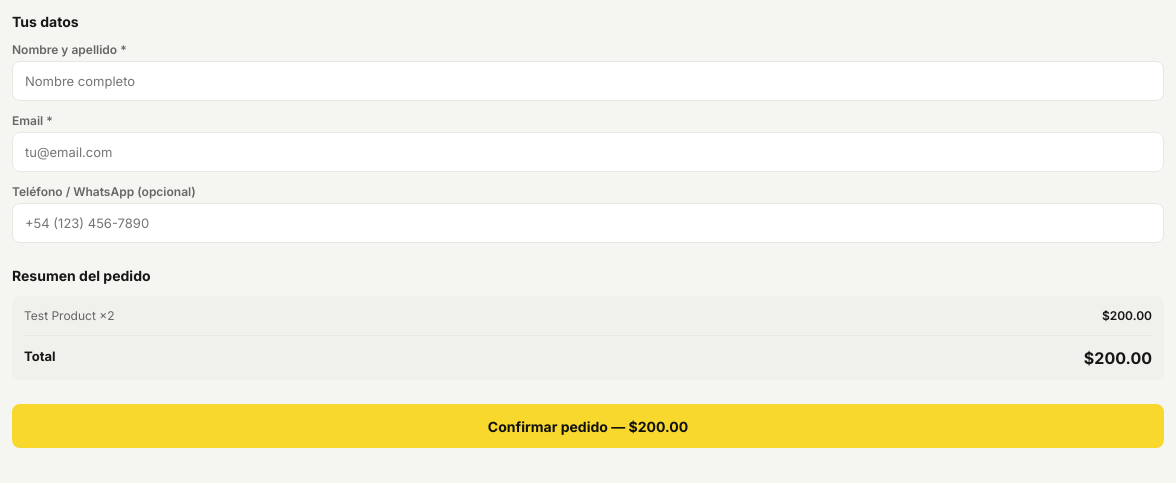
Scenario: CheckoutForm › validates email field
Type "invalid-email" into the field with test id "input-email" at (588, 152), box [12,132,1164,172]
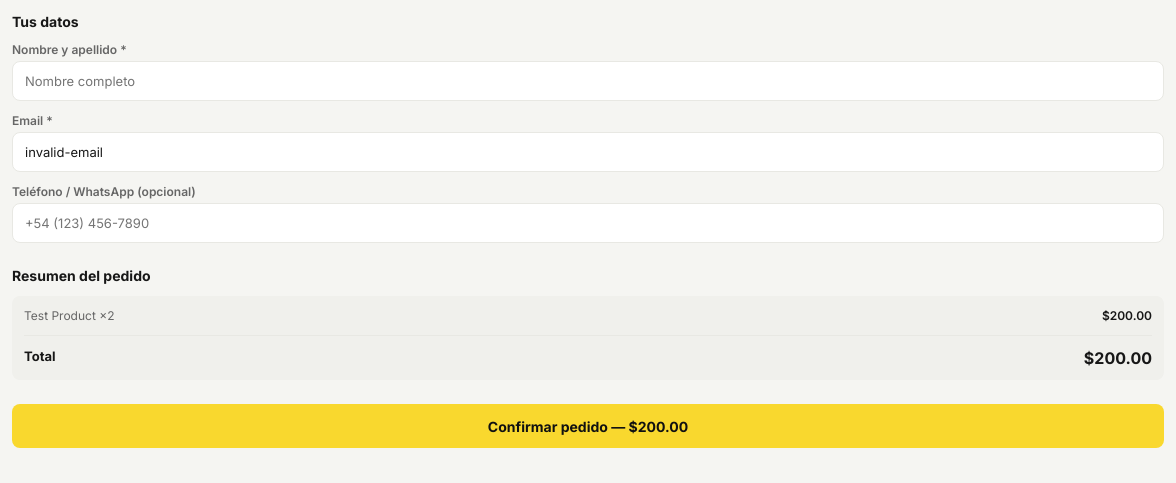
Click the button with test id "submit-button" at (588, 426), box [12,404,1164,448]
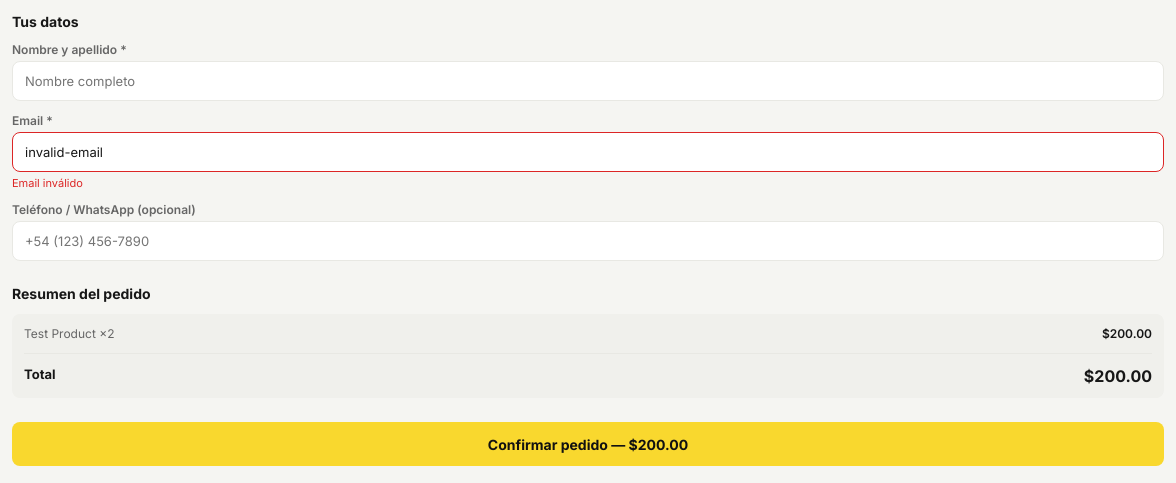
Now the text "Email inválido" is shown, box [12,176,83,190]
